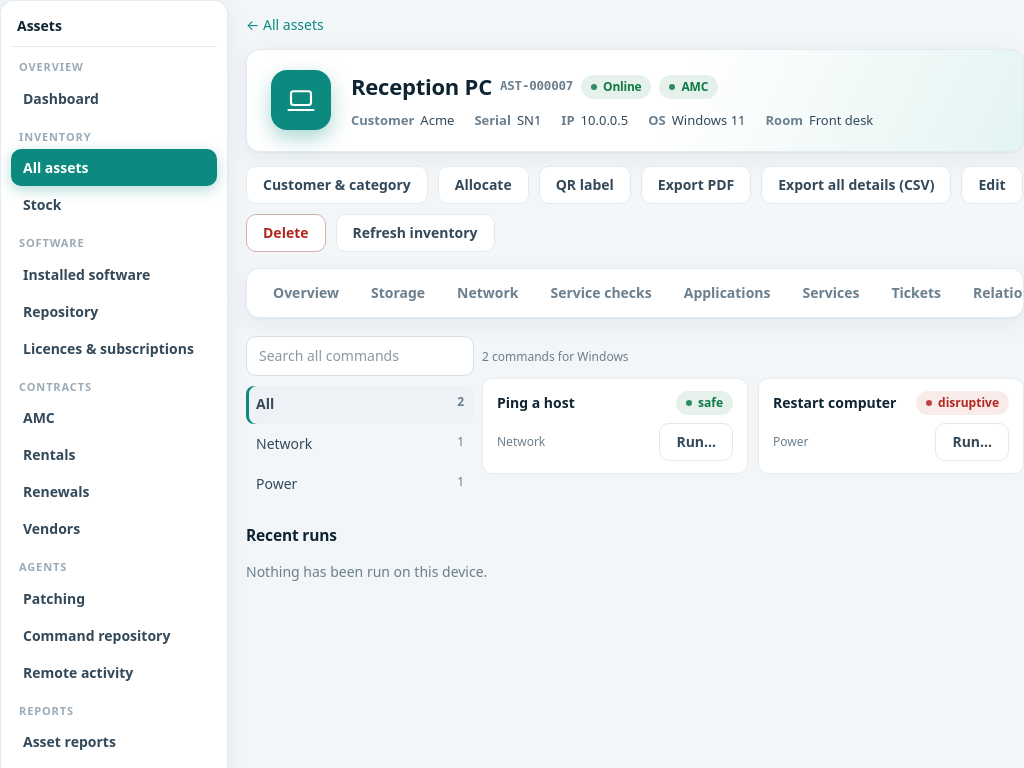
commands tab lists only commands for the device system and asks before disruptive ones
This screenshot has width=1024, height=768.
Expected: the text "Ping a host" is shown, [497,392,575,413]
Click the button "Run…" below "Restart computer".
click(972, 442)  # box [935,422,1009,460]
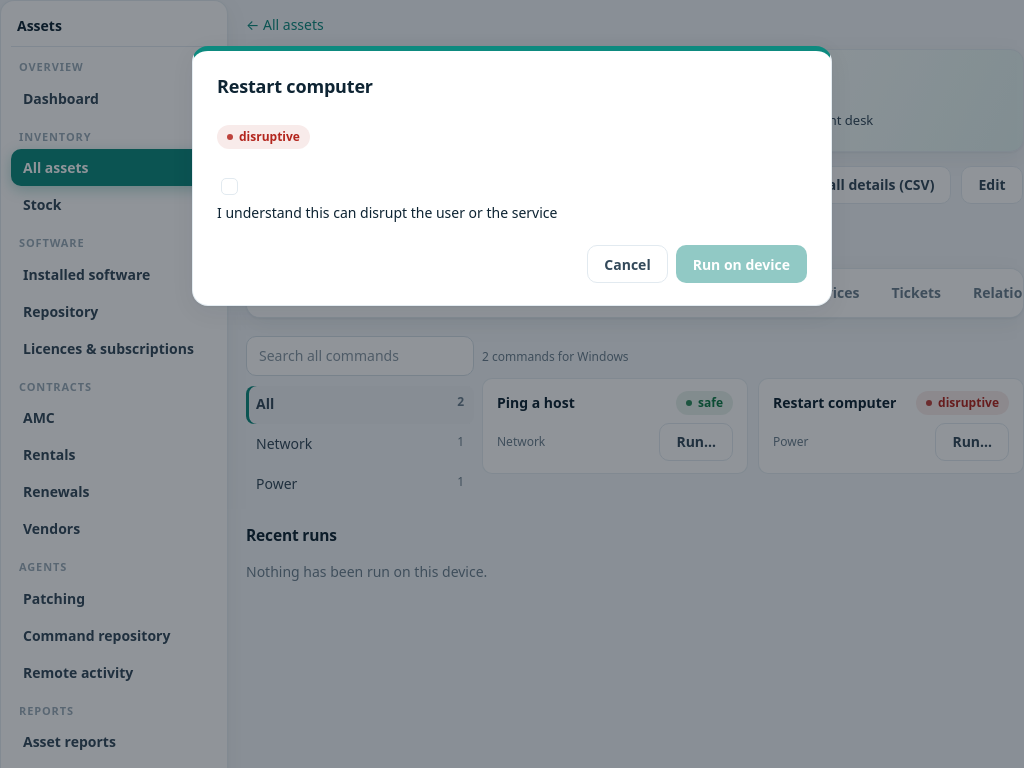
Now the button "Run on device" is disabled, box [676,245,807,283]
Click the checkbox labelled "I understand this can disrupt the user or the service".
click(230, 187)  # box [221,178,238,195]
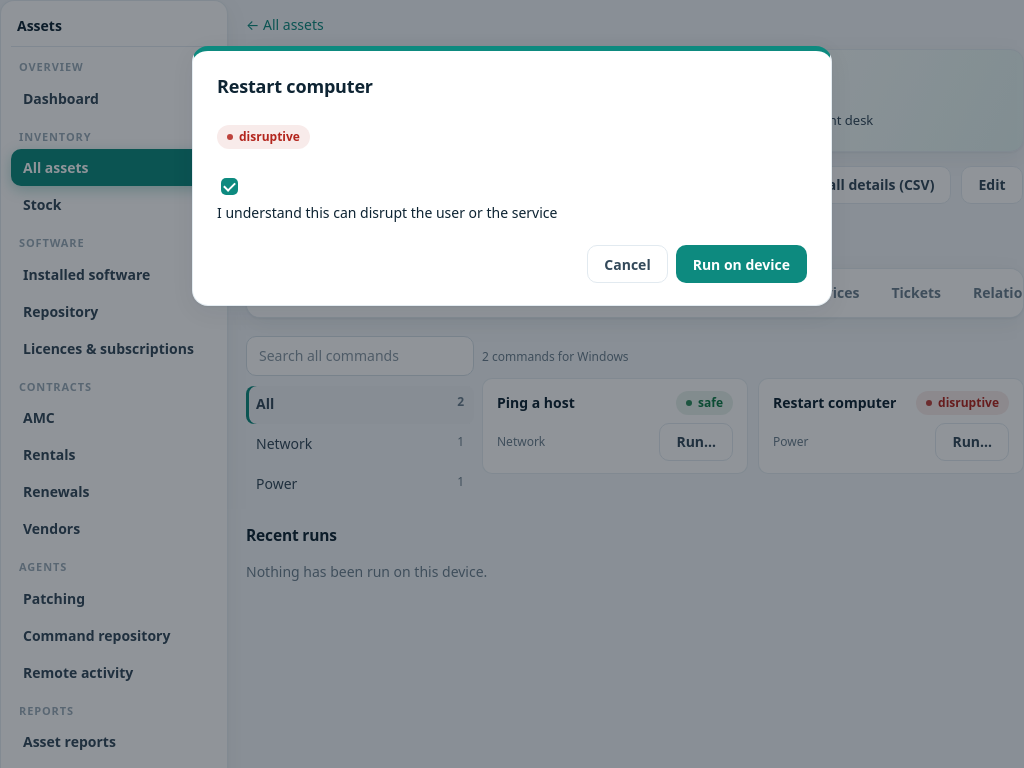
Now the button "Run on device" is enabled, box [676,245,807,283]
